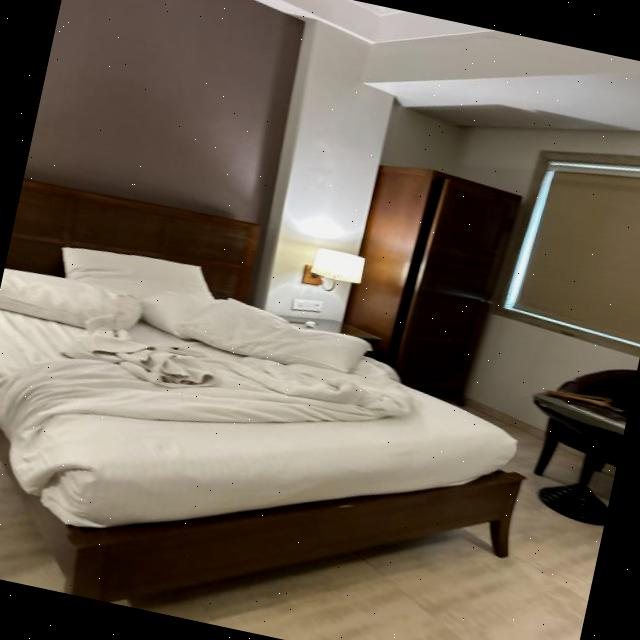Disorganized_pillow: (0, 247, 370, 376)
clean_floor: (136, 443, 602, 640)
lamp: (300, 242, 366, 303)
mess: (32, 302, 316, 432)
messy_bed: (0, 180, 525, 589)
